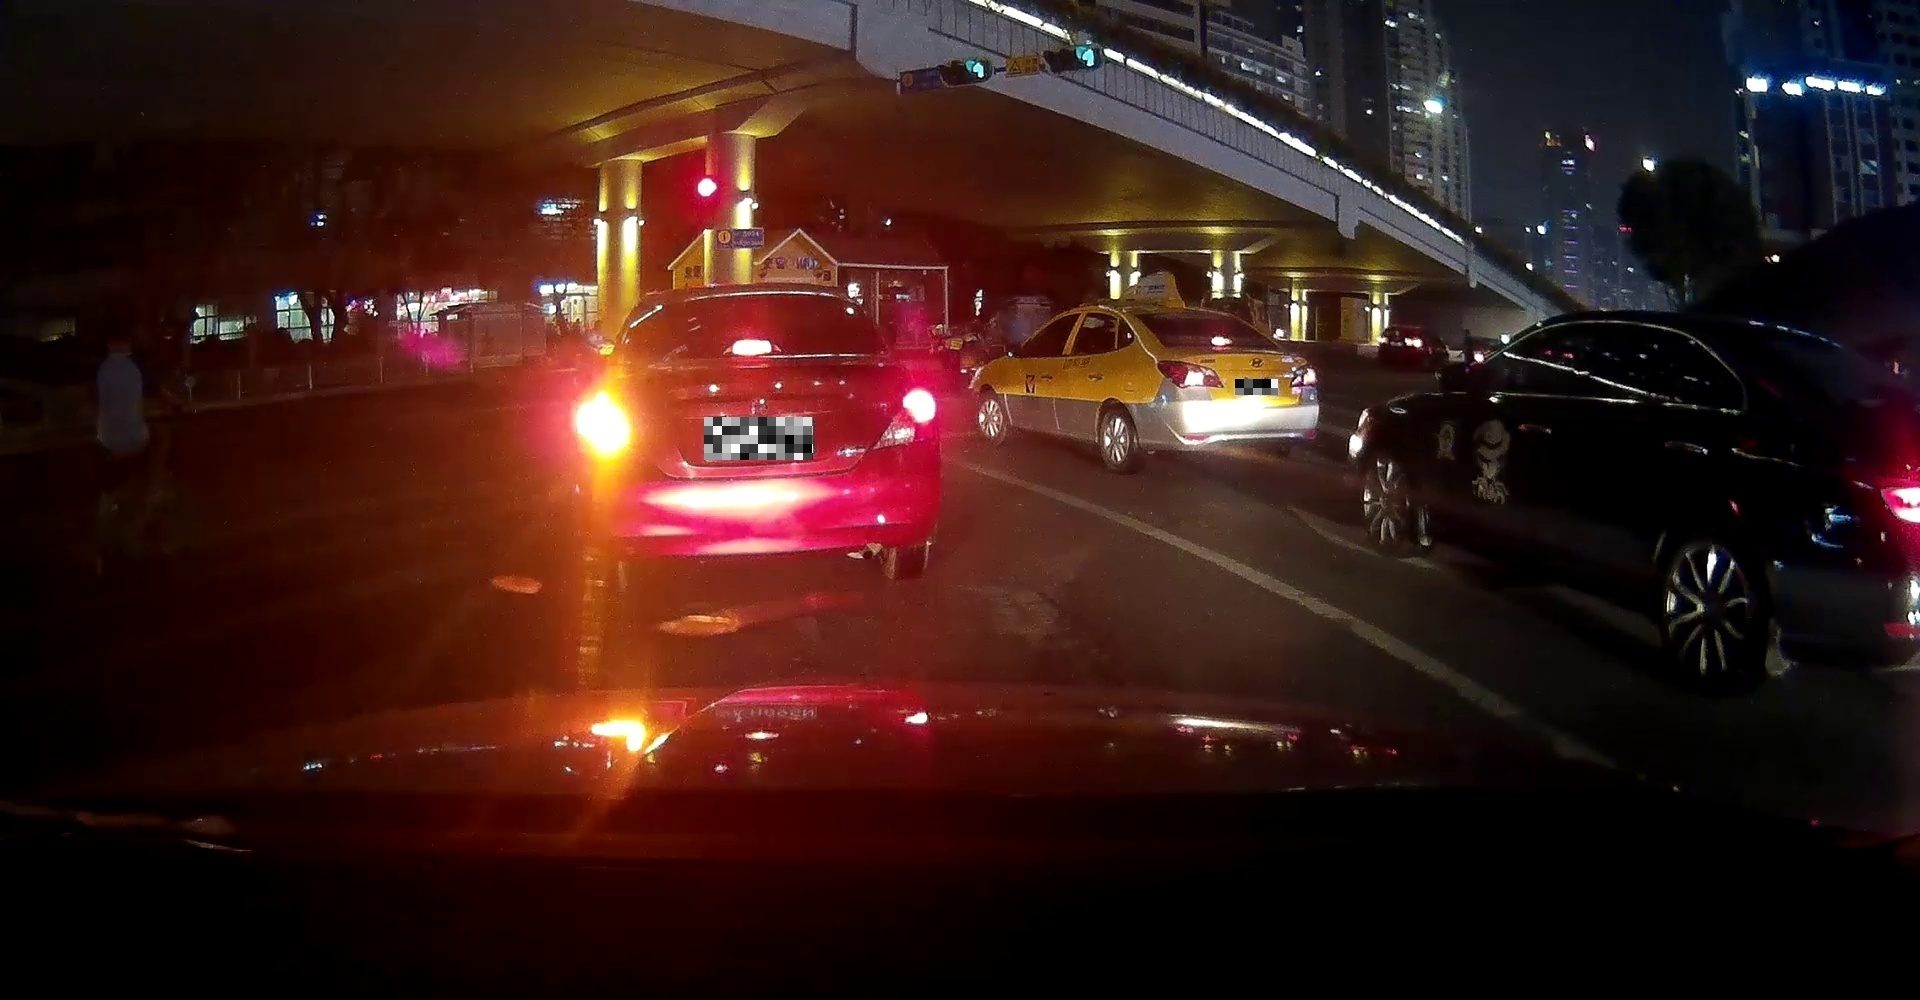L_light: (584, 396, 643, 462), (1156, 360, 1223, 388)
R_light: (874, 386, 935, 449), (1289, 362, 1317, 386)
T_light: (731, 339, 772, 355), (1210, 336, 1234, 346)
night-brake: (1135, 305, 1321, 475)
night-left: (580, 282, 938, 596)
plate_1: (703, 418, 813, 459)
plate_2: (1236, 379, 1277, 395)
